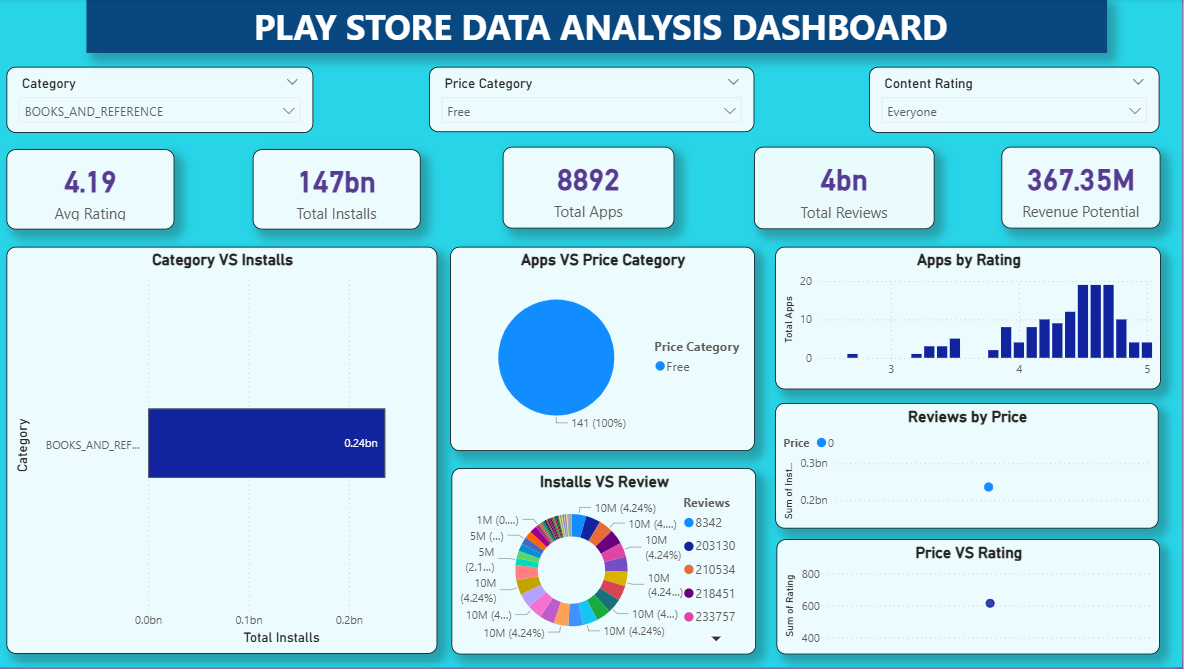

Layout of this report page (visuals, bound fields, positions):
{"tool":"powerbi","page":{"name":"Page 1","canvas":[1280,720],"ordinal":0},"visuals":[{"type":"card","fields":{"Values":["cleanest_google_playstore.Avg Rating"]},"box":[13.5,163.2,180.8,86.3],"z":0},{"type":"card","fields":{"Values":["cleanest_google_playstore.Total Installs"]},"box":[279.3,163.2,180.8,86.3],"z":1000},{"type":"card","fields":{"Values":["cleanest_google_playstore.Total Apps"]},"box":[547.7,160.5,184.8,87.7],"z":2000},{"type":"card","fields":{"Values":["cleanest_google_playstore.Total Reviews"]},"box":[818.9,160.5,194.3,89],"z":3000},{"type":"card","fields":{"Values":["cleanest_google_playstore.Revenue Potential"]},"box":[1084.7,160.5,171.3,87.7],"z":4000},{"type":"clusteredBarChart","title":"Category VS Installs","fields":{"Category":["cleanest_google_playstore.Category"],"Y":["cleanest_google_playstore.Total Installs"]},"box":[13.5,268.5,464.1,438.5],"z":5000},{"type":"pieChart","title":"Apps VS Price Category","fields":{"Y":["cleanest_google_playstore.Total Apps"],"Category":["cleanest_google_playstore.Price Category"]},"box":[491.1,268.5,327.8,219.9],"z":6000},{"type":"clusteredColumnChart","title":"Apps by Rating","fields":{"Category":["cleanest_google_playstore.Rating"],"Y":["cleanest_google_playstore.Total Apps"]},"box":[841.8,268.5,415.5,153.8],"z":7000},{"type":"scatterChart","title":" Reviews by Price","fields":{"X":["Sum(cleanest_google_playstore.Size)"],"Y":["Sum(cleanest_google_playstore.Installs)"],"Size":["Sum(cleanest_google_playstore.Reviews)"],"Series":["cleanest_google_playstore.Price"]},"box":[841.8,435.8,412.8,134.9],"z":8000},{"type":"donutChart","title":"Installs VS Review","fields":{"Category":["cleanest_google_playstore.Reviews"],"Y":["Sum(cleanest_google_playstore.Installs)"]},"box":[492.4,505.9,327.8,201],"z":9000},{"type":"scatterChart","title":"Price VS Rating","fields":{"X":["Sum(cleanest_google_playstore.Price)"],"Y":["Sum(cleanest_google_playstore.Rating)"]},"box":[843.2,582.8,412.8,124.1],"z":10000},{"type":"slicer","fields":{"Values":["cleanest_google_playstore.Category"]},"box":[13.5,74.2,330.5,71.5],"z":11000},{"type":"slicer","fields":{"Values":["cleanest_google_playstore.Price Category"]},"box":[468.1,74.2,350.8,70.2],"z":12000},{"type":"slicer","fields":{"Values":["cleanest_google_playstore.Content Rating"]},"box":[943,74.2,313,71.5],"z":13000},{"type":"textbox","box":[99.8,0,1099.5,59.4],"z":14000}]}

Visuals, with their boxes in screenshot pixels (x1, y1, x2, y2), scaled from the page's 1280x720 canvas onto the 1184x669 screenshot:
card - cleanest_google_playstore.Avg Rating: <bbox>12, 152, 180, 232</bbox>
card - cleanest_google_playstore.Total Installs: <bbox>258, 152, 426, 232</bbox>
card - cleanest_google_playstore.Total Apps: <bbox>507, 149, 678, 231</bbox>
card - cleanest_google_playstore.Total Reviews: <bbox>757, 149, 937, 232</bbox>
card - cleanest_google_playstore.Revenue Potential: <bbox>1003, 149, 1162, 231</bbox>
"Category VS Installs" clusteredBarChart: <bbox>12, 249, 442, 657</bbox>
"Apps VS Price Category" pieChart: <bbox>454, 249, 757, 454</bbox>
"Apps by Rating" clusteredColumnChart: <bbox>779, 249, 1163, 392</bbox>
" Reviews by Price" scatterChart: <bbox>779, 405, 1161, 530</bbox>
"Installs VS Review" donutChart: <bbox>455, 470, 759, 657</bbox>
"Price VS Rating" scatterChart: <bbox>780, 542, 1162, 657</bbox>
slicer - cleanest_google_playstore.Category: <bbox>12, 69, 318, 135</bbox>
slicer - cleanest_google_playstore.Price Category: <bbox>433, 69, 757, 134</bbox>
slicer - cleanest_google_playstore.Content Rating: <bbox>872, 69, 1162, 135</bbox>
textbox: <bbox>92, 0, 1109, 55</bbox>
